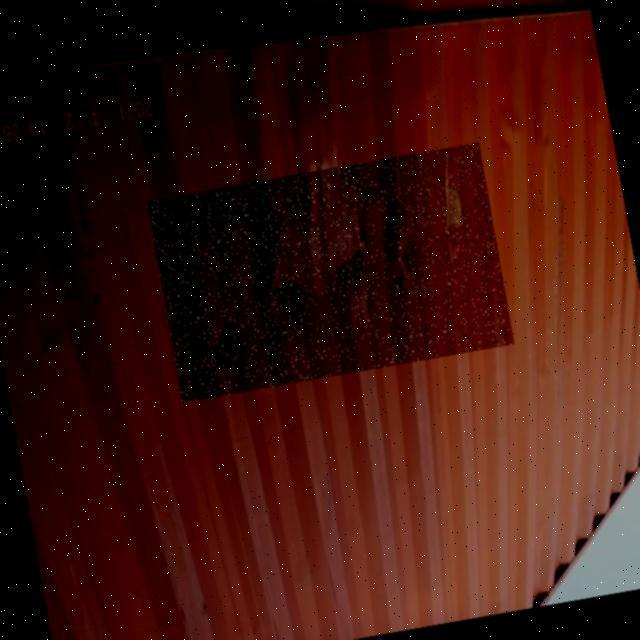Dent: (147, 142, 514, 402)
